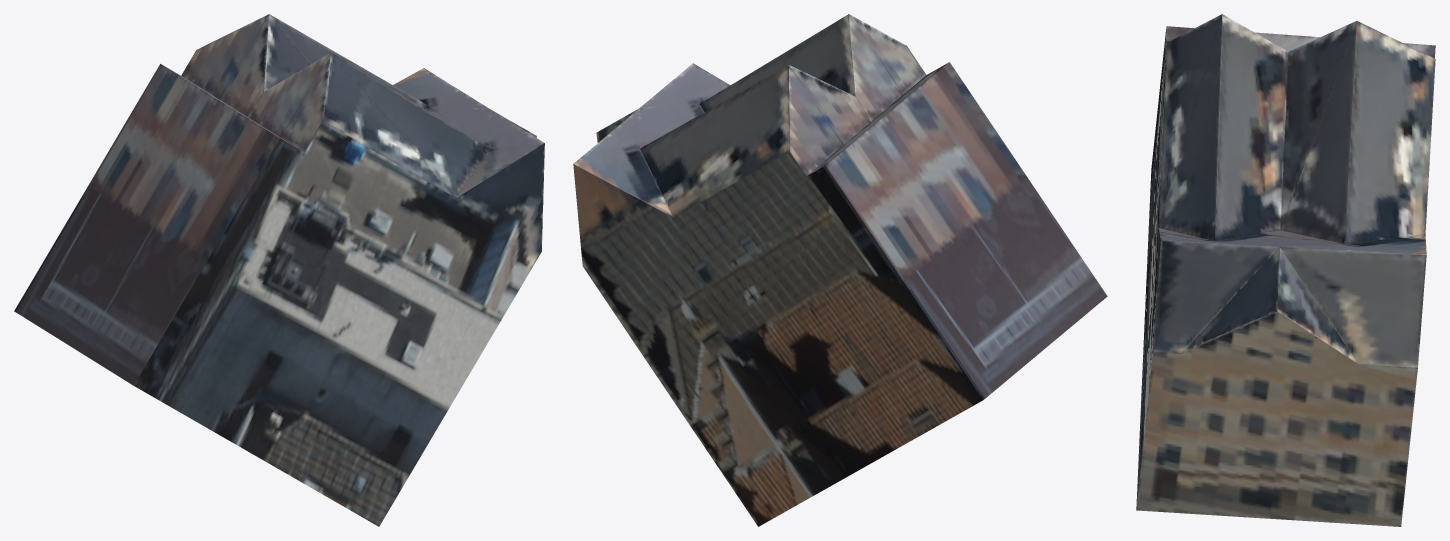
3 views of the same model, side by side, from view 1: azimuth 30°, elevation 25°; view 2: azimuth 150°, elevation 25°; view 3: azimuth 270°, elevation 25° (orthographic). The views are drawn at different scales.
Parts seen in each view (by area): view 1: BAG_0599100000767277 (×5); view 2: BAG_0599100000767277 (×5); view 3: BAG_0599100000767277 (×5).
Boxes of the visible parts, x1,y1,x2,y2 form: BAG_0599100000767277 (×5): (14, 14, 544, 526); BAG_0599100000767277 (×5): (573, 14, 1107, 526); BAG_0599100000767277 (×5): (1136, 14, 1435, 526).
Bounding box in the file's own units: 24.52 × 23.53 × 12.58.
5 materials, 5 textured.
